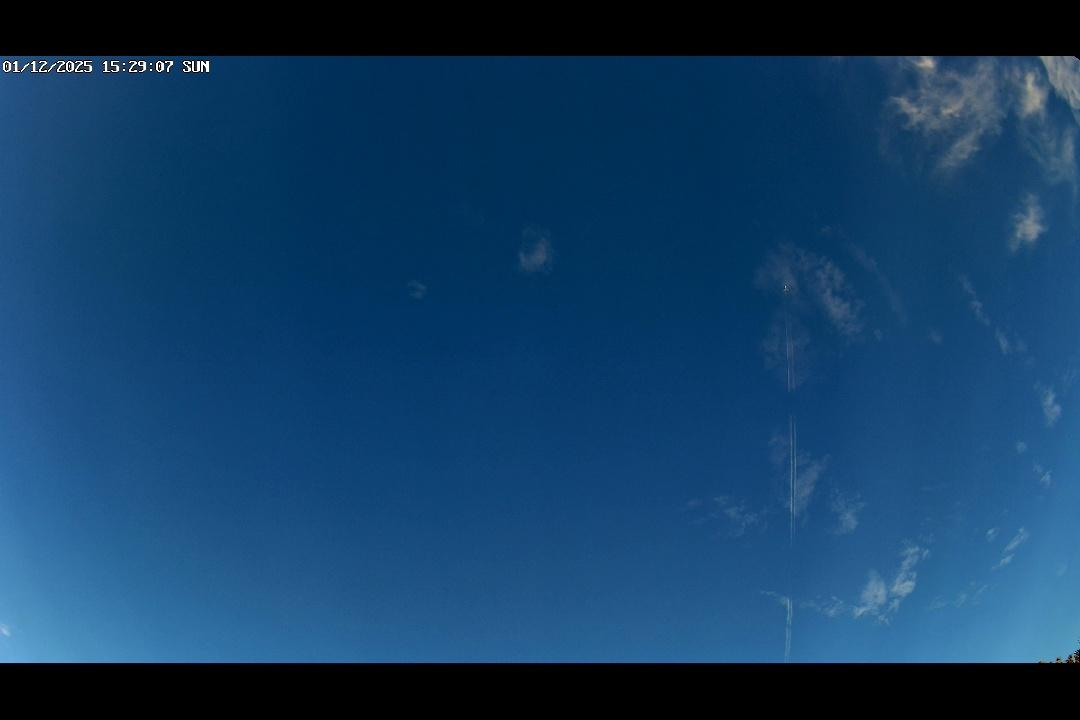Plane: (775, 281, 809, 514)
